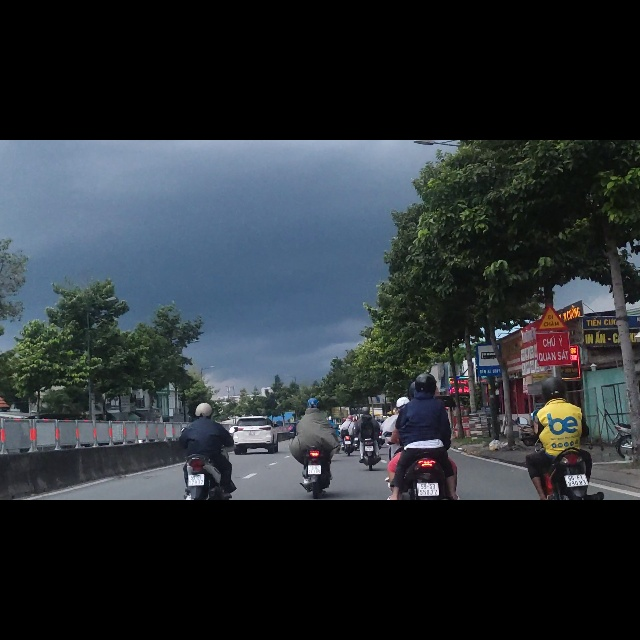bien_hieu_lenh: (475, 362, 503, 421), (535, 291, 567, 340)
